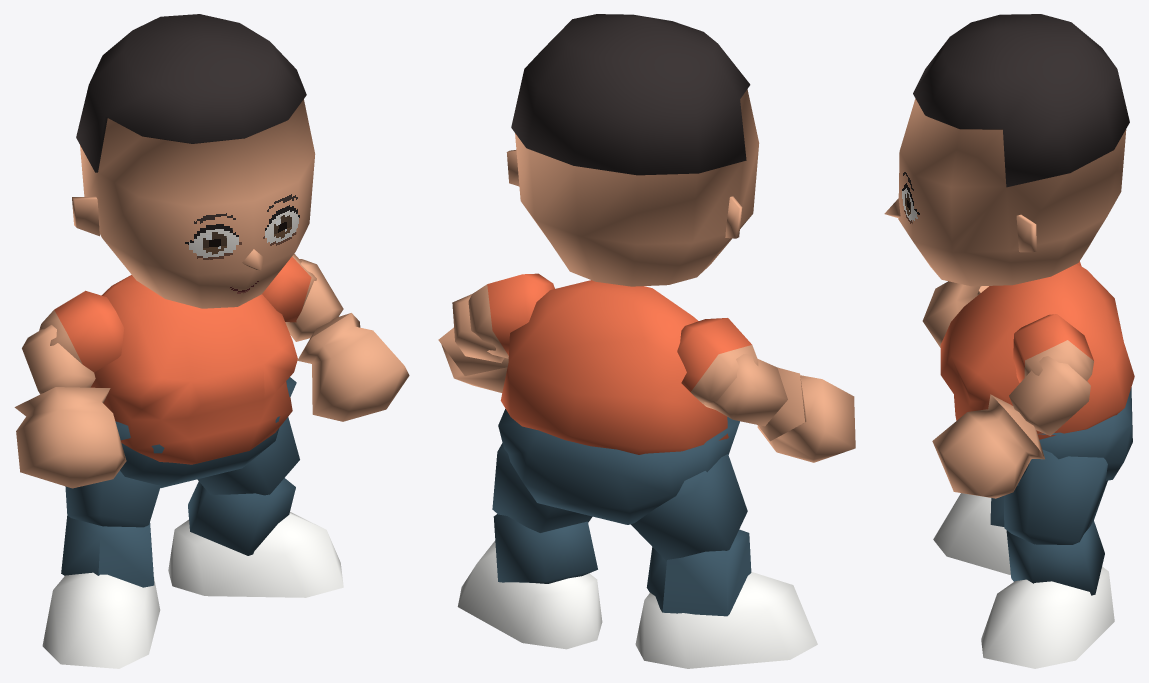
3 views of the same model, side by side, from view 1: azimuth 30°, elevation 25°; view 2: azimuth 150°, elevation 25°; view 3: azimuth 270°, elevation 25° (orthographic). The views are drawn at different scales.
Parts seen in each view (by area): view 1: Character; view 2: Character; view 3: Character.
Boxes of the visible parts, x1=… form: Character: x1=14, y1=14, x2=409, y2=668; Character: x1=438, y1=14, x2=855, y2=668; Character: x1=884, y1=14, x2=1134, y2=668.
Size of the model in its own units: 1.98 by 2.78 by 1.11.
9 materials, 2 textured.
